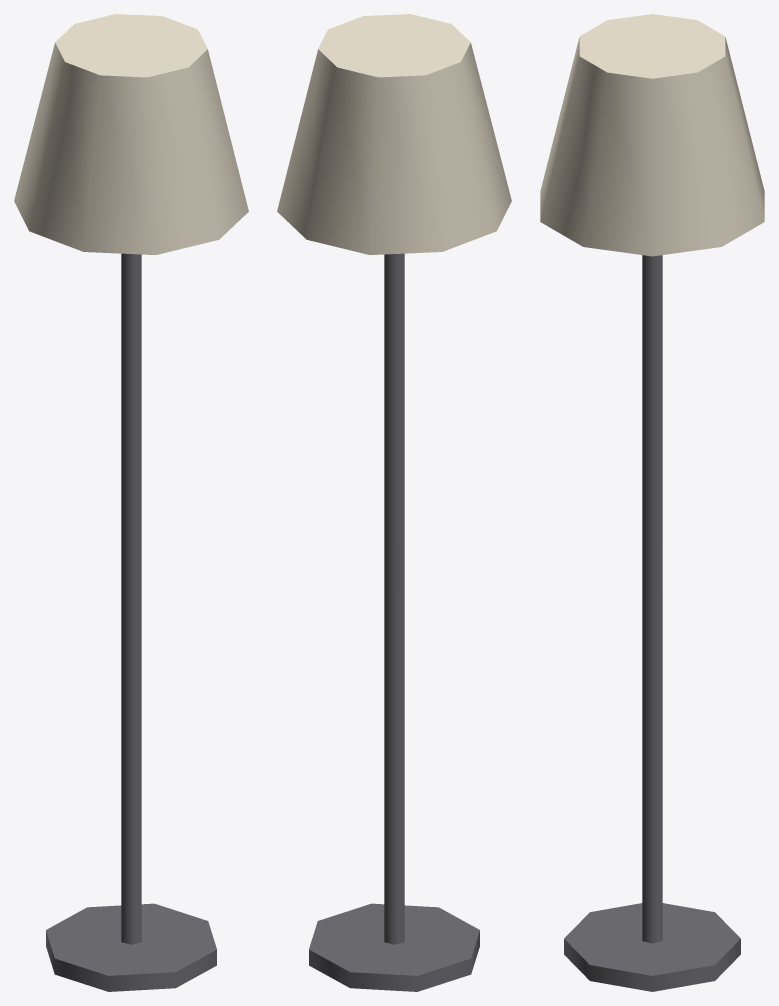
Rendered from lamp_floor.gltf.
The picture shows the model from 3 angles, left to right: view 1: azimuth 30°, elevation 25°; view 2: azimuth 150°, elevation 25°; view 3: azimuth 270°, elevation 25°; orthographic projection.
Visible parts, largest first — view 1: lamp_floor; view 2: lamp_floor; view 3: lamp_floor.
Boxes of the visible parts, box(x1,y1,x2,y2) form: lamp_floor: box(14, 14, 248, 991); lamp_floor: box(277, 14, 511, 991); lamp_floor: box(540, 14, 764, 991).
Size of the model in its own units: 0.4 by 1.7 by 0.3804.
